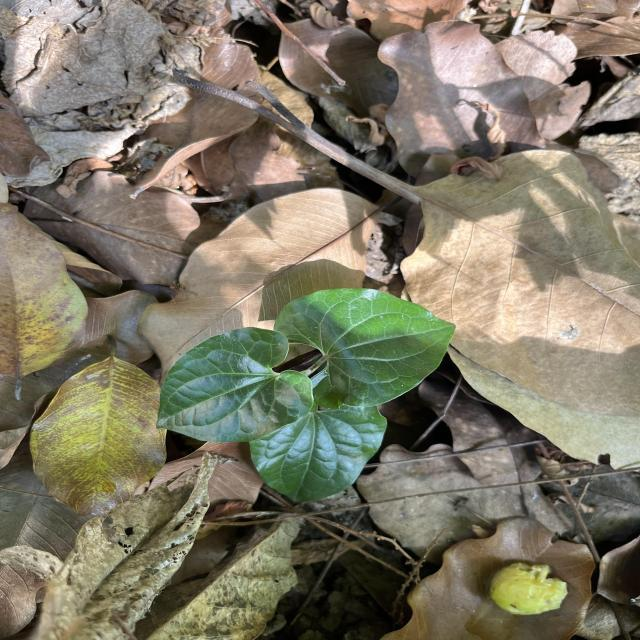Piper longum: (271, 285, 458, 413), (153, 324, 314, 444), (248, 406, 388, 506)
